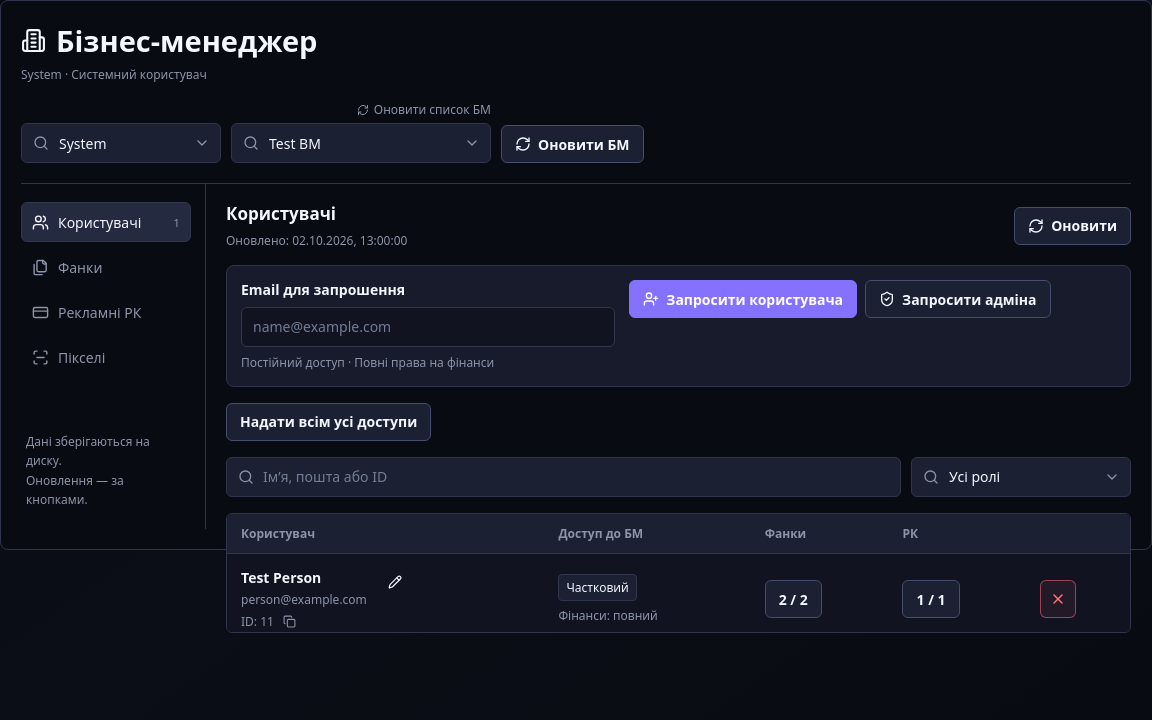
Test: БМ › показує помилку інвайту під кнопками
Step 1. Type "user@example.com" into the field labelled "Email для запрошення" → (428, 327), box [241,307,615,347]
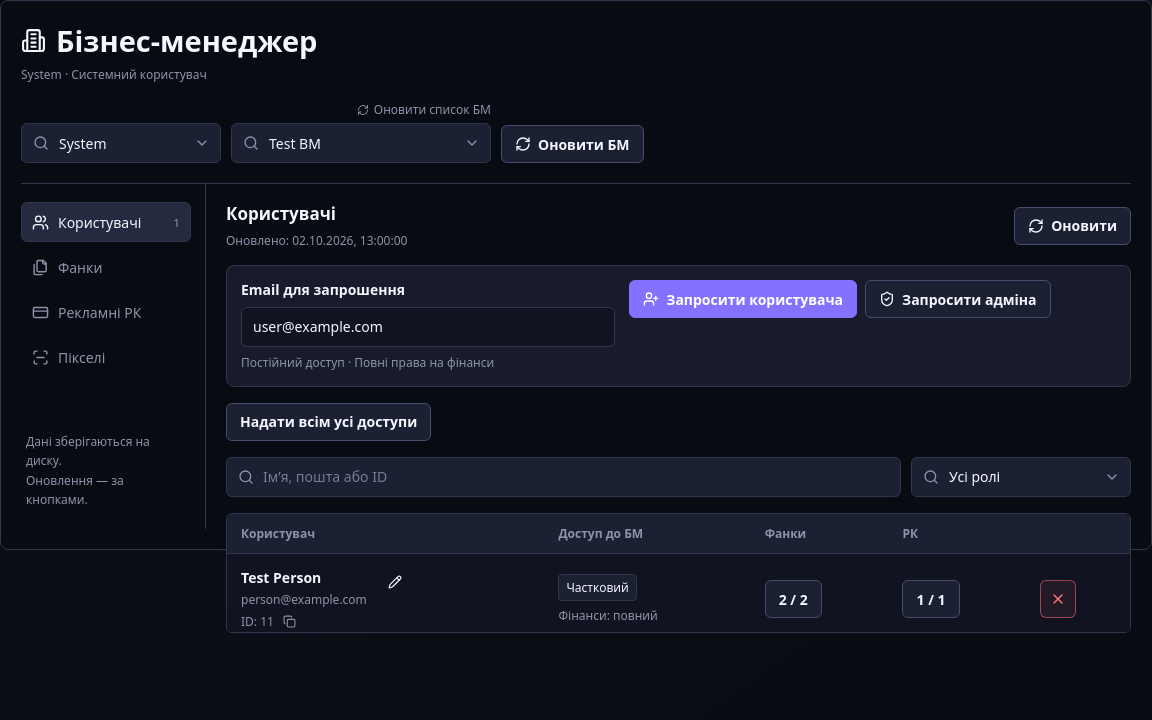
Step 2. Click the button "Запросити користувача" → (743, 299), box [629,280,857,318]
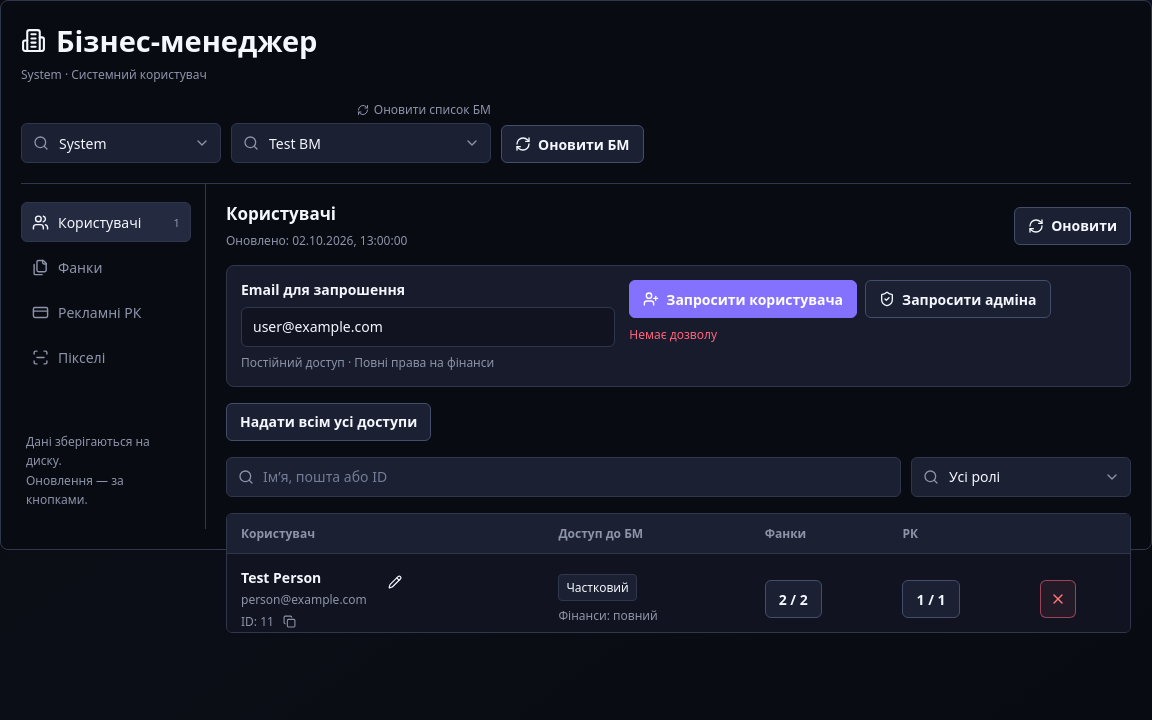
Result: the text "Немає дозволу" is shown at [629,326,717,343]
